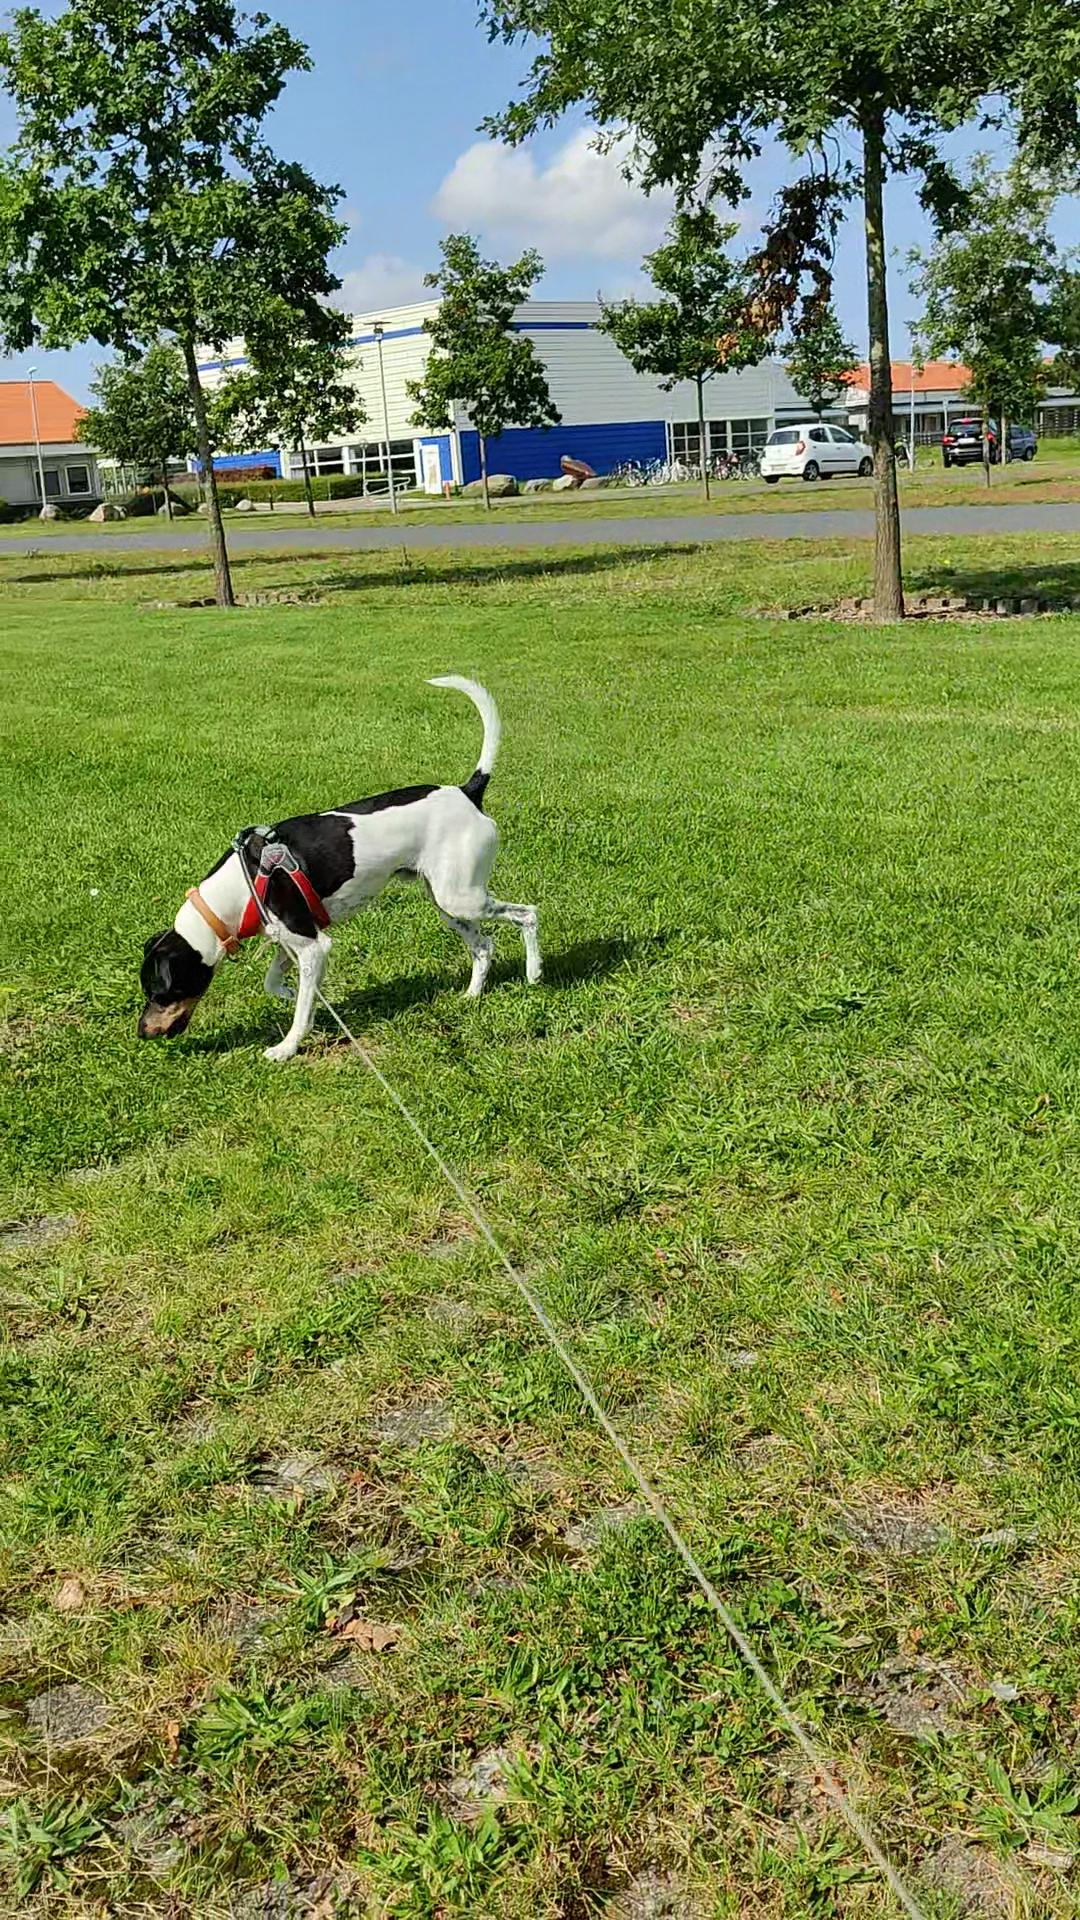Dog: (127, 651, 553, 1088)
